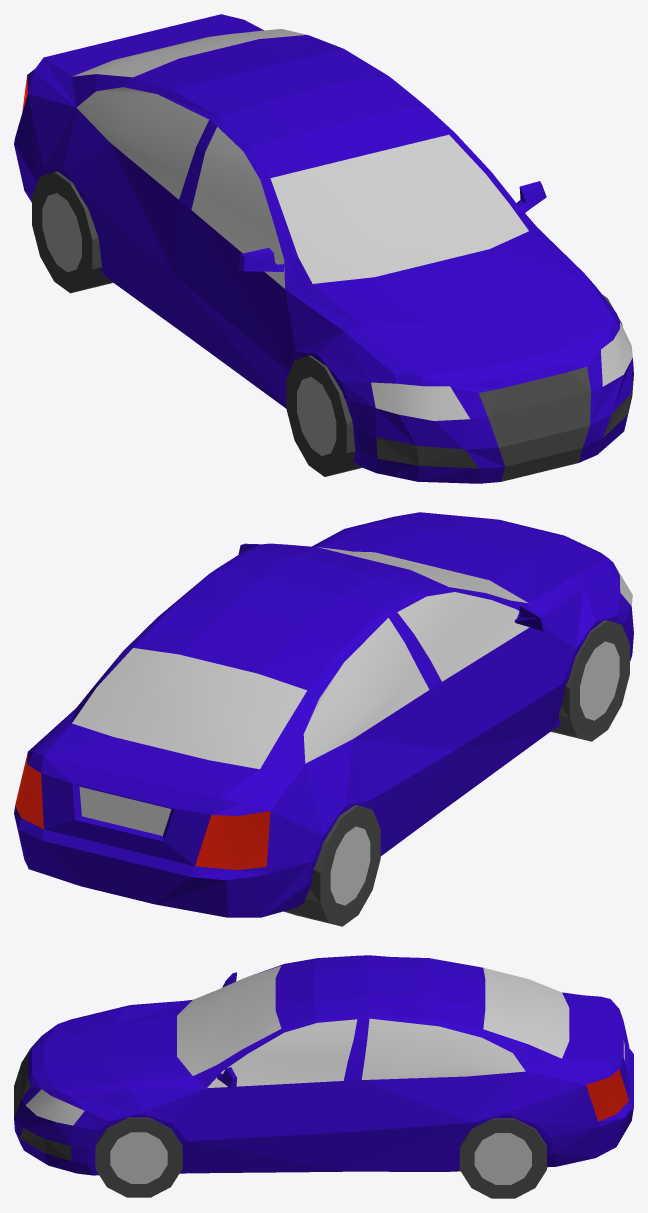
Rendered from car.dae.
3 views of the same model, one above another, from view 1: azimuth 30°, elevation 25°; view 2: azimuth 150°, elevation 25°; view 3: azimuth 270°, elevation 25° (orthographic). The views are drawn at different scales.
Visible parts, largest first — view 1: polymsh_Pts_Material__4__Surf, polymsh_Pts_Material__1__Surf, polymsh_Pts_Material__3__Surf; view 2: polymsh_Pts_Material__4__Surf, polymsh_Pts_Material__1__Surf, polymsh_Pts_Material__3__Surf, polymsh_Pts_Material__2__Surf; view 3: polymsh_Pts_Material__4__Surf, polymsh_Pts_Material__1__Surf, polymsh_Pts_Material__3__Surf, polymsh_Pts_Material__2__Surf.
Part boxes in pixels (left/top/right/bottom): polymsh_Pts_Material__4__Surf: left=14, top=14, right=633, bottom=483; polymsh_Pts_Material__1__Surf: left=42, top=29, right=632, bottom=455; polymsh_Pts_Material__3__Surf: left=32, top=171, right=633, bottom=481; polymsh_Pts_Material__4__Surf: left=14, top=512, right=633, bottom=917; polymsh_Pts_Material__1__Surf: left=72, top=543, right=632, bottom=905; polymsh_Pts_Material__3__Surf: left=283, top=620, right=629, bottom=926; polymsh_Pts_Material__2__Surf: left=15, top=752, right=270, bottom=869; polymsh_Pts_Material__4__Surf: left=14, top=955, right=633, bottom=1175; polymsh_Pts_Material__1__Surf: left=25, top=966, right=624, bottom=1184; polymsh_Pts_Material__3__Surf: left=14, top=1049, right=546, bottom=1198; polymsh_Pts_Material__2__Surf: left=586, top=1069, right=628, bottom=1121.
Bounding box in the file's own units: 19.9 × 14.24 × 48.26.
